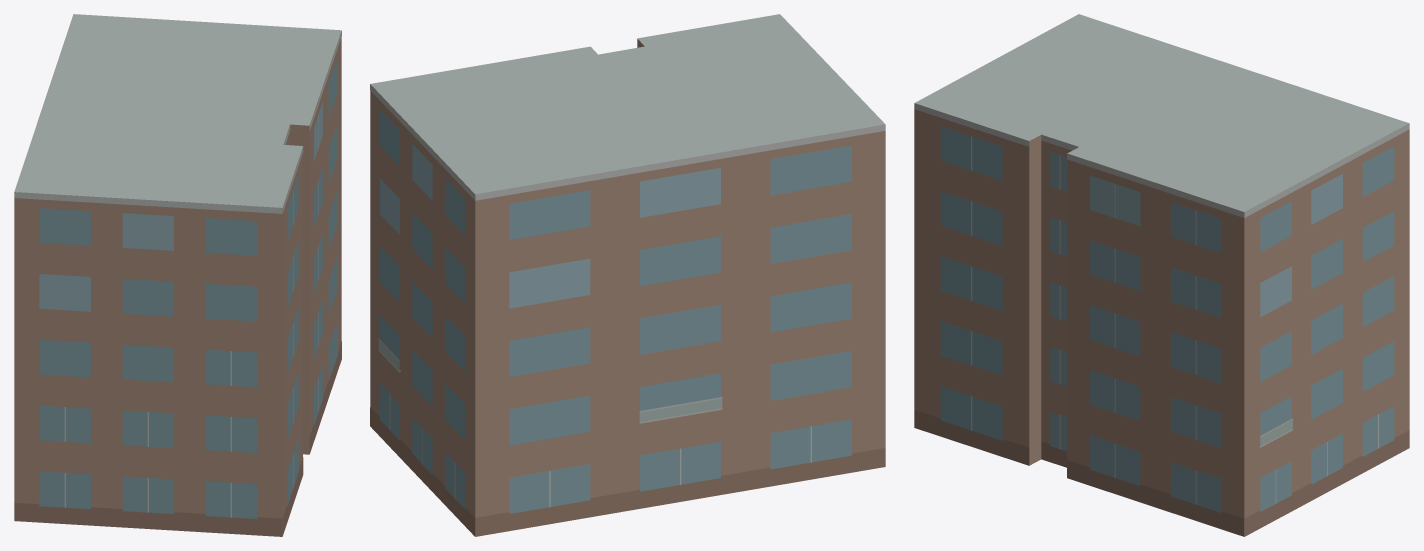
The model's file is survey-upis-32848716.glb.
3 renders of one model, left to right at view 1: azimuth 30°, elevation 25°; view 2: azimuth 150°, elevation 25°; view 3: azimuth 270°, elevation 25°, orthographic. The views are drawn at different scales.
Visible parts, largest first — view 1: survey-upis-32848716.tmp; view 2: survey-upis-32848716.tmp; view 3: survey-upis-32848716.tmp.
Boxes of the visible parts, left/top/right/bottom form: survey-upis-32848716.tmp: left=14, top=14, right=341, bottom=536; survey-upis-32848716.tmp: left=370, top=14, right=885, bottom=536; survey-upis-32848716.tmp: left=914, top=14, right=1409, bottom=536.
Bounding box in the file's own units: 17.42 × 13.3 × 18.39.
